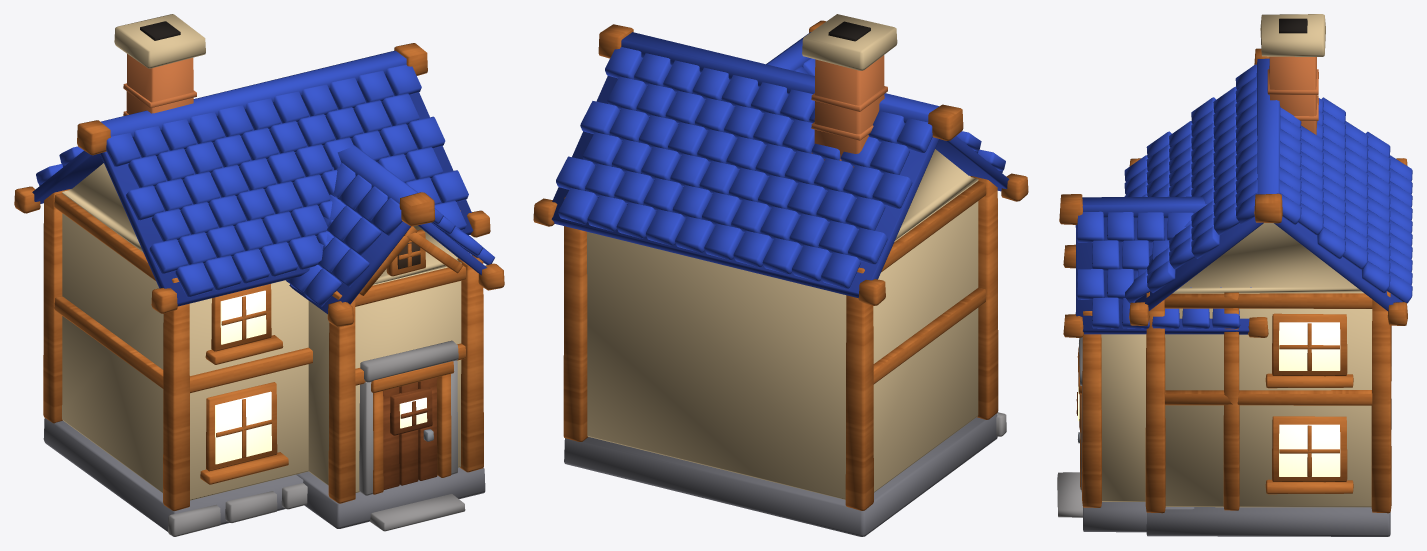
Rendered from OBJ01_house_blue.glb.
3 renders of one model, left to right at view 1: azimuth 30°, elevation 25°; view 2: azimuth 150°, elevation 25°; view 3: azimuth 270°, elevation 25°, orthographic. The views are drawn at different scales.
Parts seen in each view (by area): view 1: RoofTiles, MainWalls, TimberFrame, WingWalls, StonePlinth, RoofTiles2, RoofSlabs, RidgeCap, DoorArch, ChimneyCap, Pane, ChimneyStack (+28 smaller); view 2: MainWalls, RoofTiles, TimberFrame, StonePlinth, RoofSlabs, ChimneyStack, RidgeCap, ChimneyCap, Gable_-1, RidgeEnd_-1, RidgeEnd_1, RidgeCap2 (+2 smaller); view 3: RoofTiles, MainWalls, TimberFrame, RoofTiles2, StonePlinth, WingWalls, Gable_1, RoofSlabs, Pane4, RidgeCap, Pane3, RoofSlabs2 (+14 smaller).
Boxes of the visible parts, box(x1,y1,x2,y2) form: RoofTiles: box(36, 64, 468, 297); MainWalls: box(62, 192, 308, 500); TimberFrame: box(43, 189, 483, 510); WingWalls: box(308, 263, 461, 492); StonePlinth: box(43, 418, 485, 531); RoofTiles2: box(286, 163, 494, 306); RoofSlabs: box(32, 92, 473, 306); RidgeCap: box(101, 50, 406, 137); DoorArch: box(359, 340, 458, 495); ChimneyCap: box(114, 14, 205, 68); Pane: box(215, 391, 271, 464); ChimneyStack: box(126, 54, 193, 114); MainWalls: box(587, 180, 978, 499); RoofTiles: box(556, 47, 1005, 288); TimberFrame: box(563, 176, 998, 510); StonePlinth: box(564, 413, 997, 536); RoofSlabs: box(551, 76, 1009, 298); ChimneyStack: box(814, 55, 884, 158); RidgeCap: box(621, 32, 939, 123); ChimneyCap: box(802, 14, 897, 70); Gable_-1: box(895, 149, 978, 240); RidgeEnd_-1: box(928, 104, 963, 140); RidgeEnd_1: box(598, 24, 633, 58); RidgeCap2: box(766, 32, 810, 70); RoofTiles: box(1124, 64, 1412, 303); MainWalls: box(1165, 292, 1372, 507); TimberFrame: box(1082, 291, 1391, 513); RoofTiles2: box(1076, 211, 1251, 328); StonePlinth: box(1083, 399, 1391, 536); WingWalls: box(1101, 334, 1146, 501); Gable_1: box(1174, 223, 1362, 292); RoofSlabs: box(1135, 216, 1402, 311); Pane4: box(1279, 424, 1340, 476); RidgeCap: box(1256, 58, 1280, 194); Pane3: box(1279, 322, 1340, 370); RoofSlabs2: box(1075, 218, 1249, 334).
Size of the model in its own units: 1.8 by 2.21 by 1.73.
12 materials, 2 textured.
